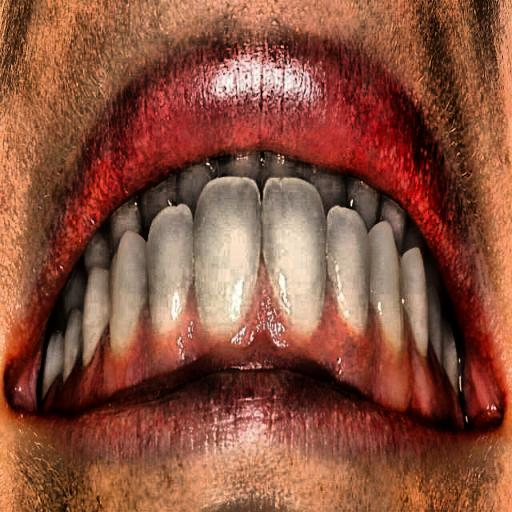Healthy: (86, 43, 423, 450)
